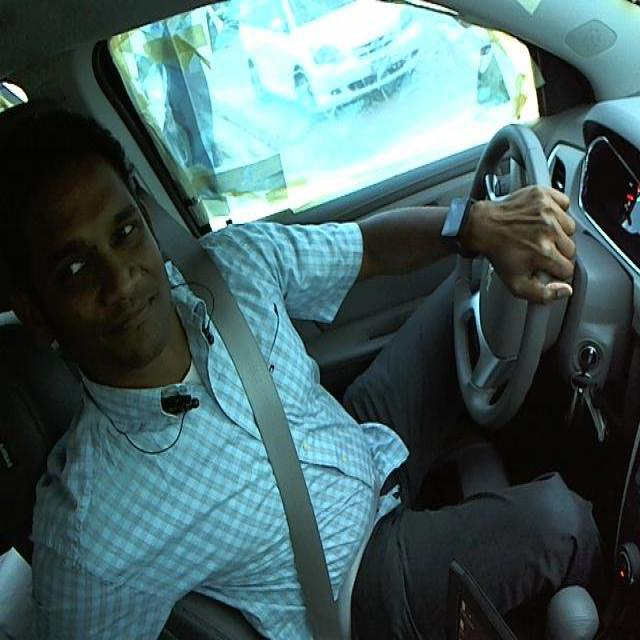seatbelt: (178, 260, 358, 639)
